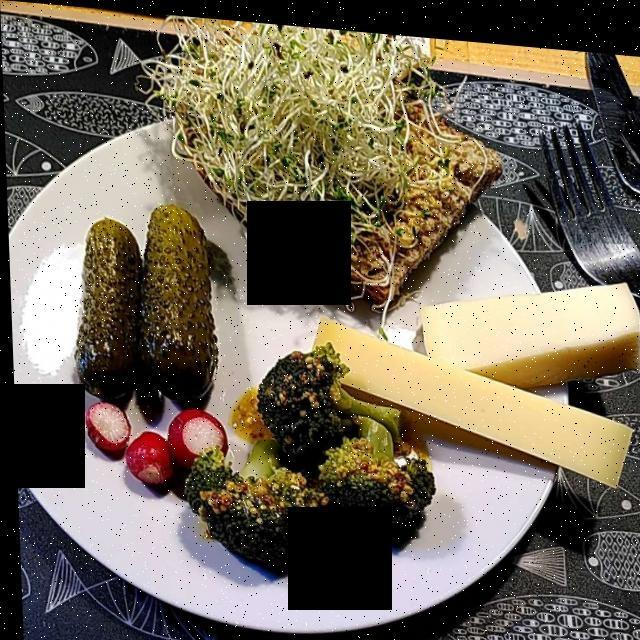bread: (317, 97, 496, 298)
broccoli: (185, 332, 447, 561)
cheese: (316, 270, 640, 479)
cucumber-pickled: (71, 199, 212, 395)
radish: (81, 396, 224, 480)
sprouts: (157, 20, 444, 268)
